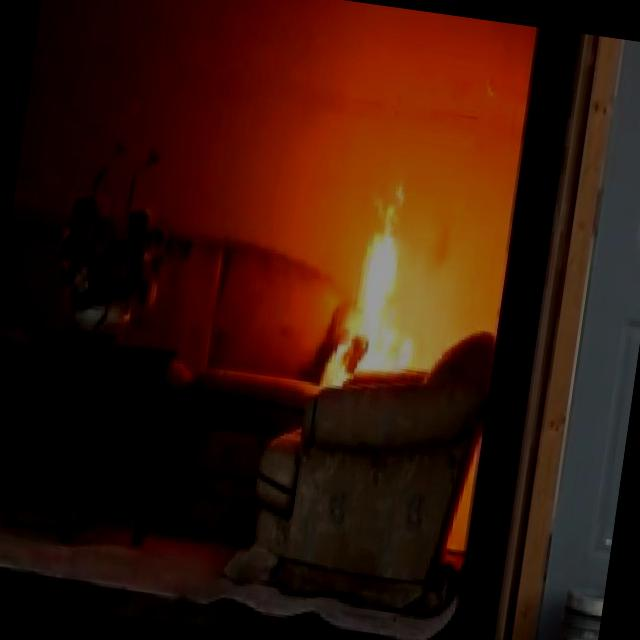fire: (326, 178, 448, 388)
